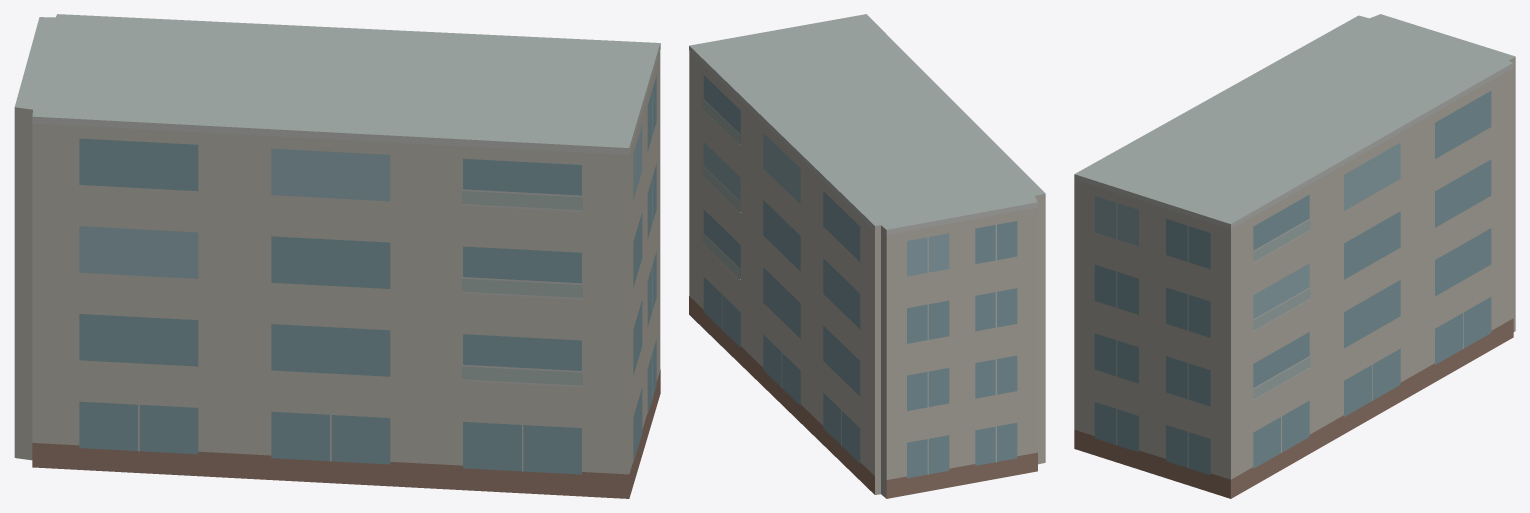
Rendered from survey-upis-32630274.glb.
The picture shows the model from 3 angles, left to right: view 1: azimuth 30°, elevation 25°; view 2: azimuth 150°, elevation 25°; view 3: azimuth 270°, elevation 25°; orthographic projection. The views are drawn at different scales.
Parts seen in each view (by area): view 1: survey-upis-32630274.tmp; view 2: survey-upis-32630274.tmp; view 3: survey-upis-32630274.tmp.
Part boxes in pixels (x1=…): survey-upis-32630274.tmp: x1=14, y1=14, x2=660, y2=498; survey-upis-32630274.tmp: x1=689, y1=14, x2=1045, y2=498; survey-upis-32630274.tmp: x1=1074, y1=14, x2=1515, y2=498.
Bounding box in the file's own units: 20.85 × 12.7 × 18.5.
